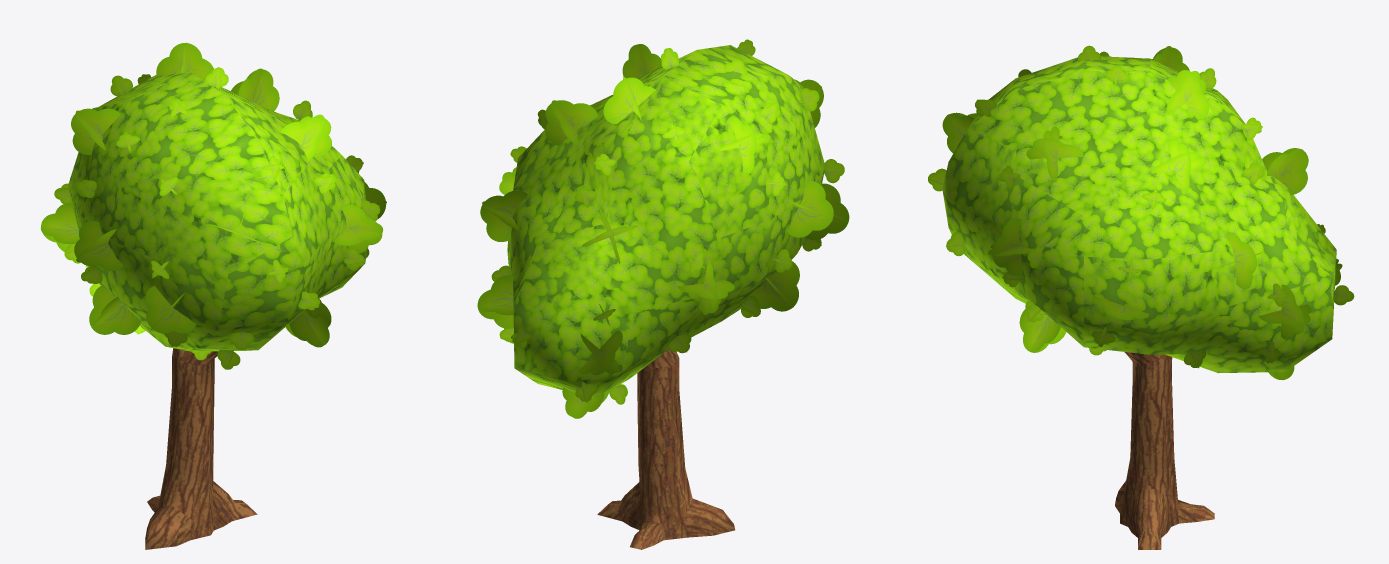
The model's file is leaf_tree_a.fbx.
3 views of the same model, side by side, from view 1: azimuth 30°, elevation 25°; view 2: azimuth 150°, elevation 25°; view 3: azimuth 270°, elevation 25° (orthographic).
Parts seen in each view (by area): view 1: leaves_a, leaf_tree_a; view 2: leaves_a, leaf_tree_a; view 3: leaves_a, leaf_tree_a.
Part boxes in pixels (x1,y1,x2,y2): leaves_a: (40, 42, 386, 369); leaf_tree_a: (145, 348, 257, 549); leaves_a: (477, 39, 849, 418); leaf_tree_a: (597, 349, 735, 549); leaves_a: (928, 45, 1354, 379); leaf_tree_a: (1115, 352, 1214, 549).
Size of the model in its own units: 283 by 360 by 316.
